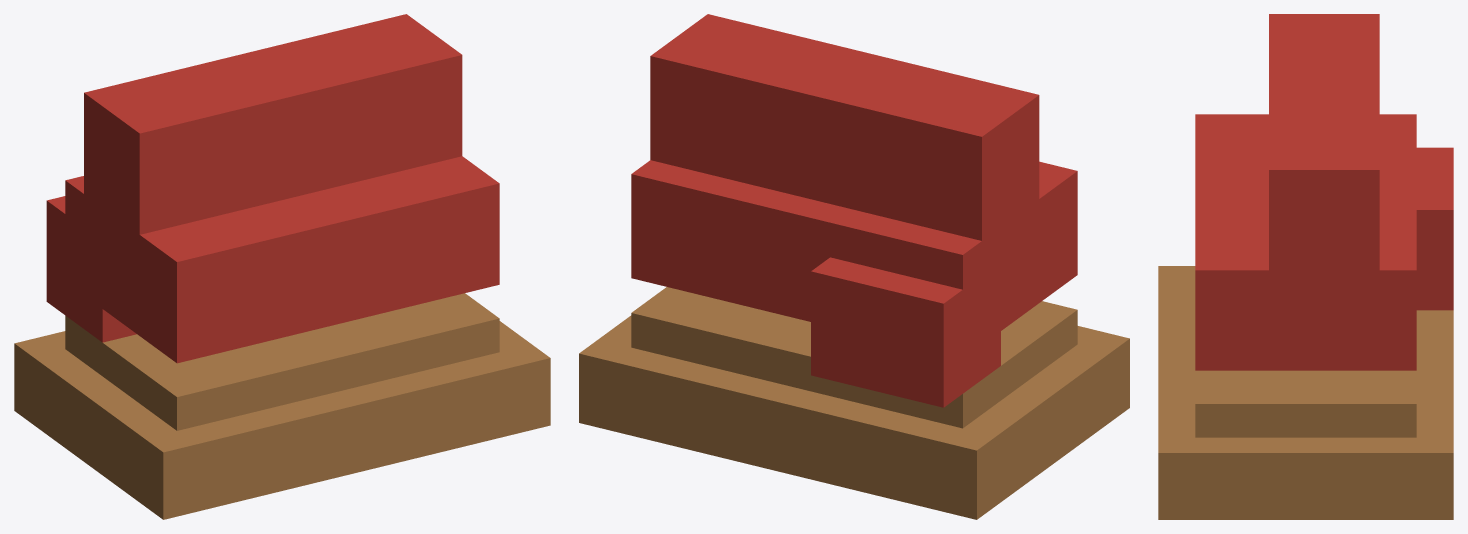
File: hearthvale_prop_log_stack.obj
The picture shows the model from 3 angles, left to right: view 1: azimuth 30°, elevation 25°; view 2: azimuth 150°, elevation 25°; view 3: azimuth 270°, elevation 25°; orthographic projection. The views are drawn at different scales.
Parts seen in each view (by area): view 1: palette_18, palette_2; view 2: palette_18, palette_2; view 3: palette_18, palette_2.
Boxes of the visible parts, box(x1,y1,x2,y2) form: palette_18: box(46, 14, 499, 363); palette_2: box(14, 293, 550, 519); palette_18: box(631, 14, 1077, 407); palette_2: box(579, 287, 1129, 519); palette_18: box(1195, 14, 1453, 370); palette_2: box(1158, 266, 1453, 519).
Bounding box in the file's own units: 1.5 × 1.25 × 1.
